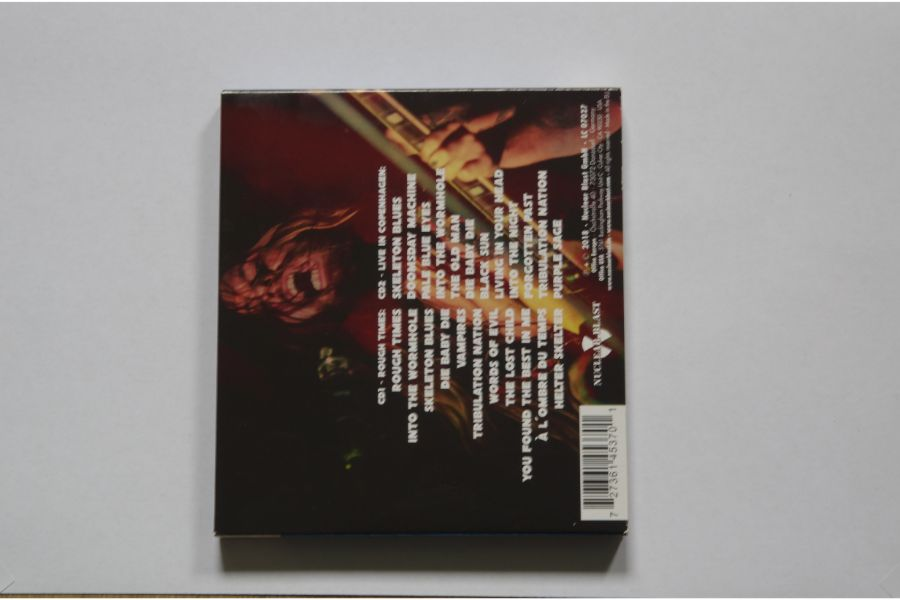album: (214, 86, 627, 533)
